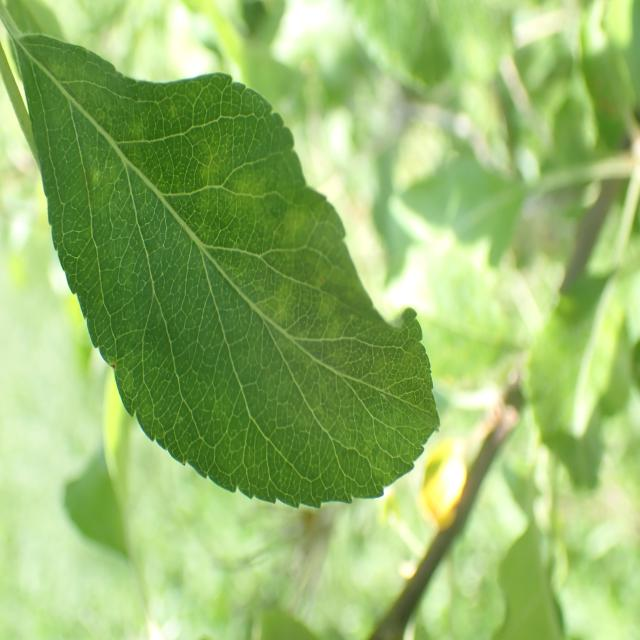scab: (52, 47, 429, 468)
